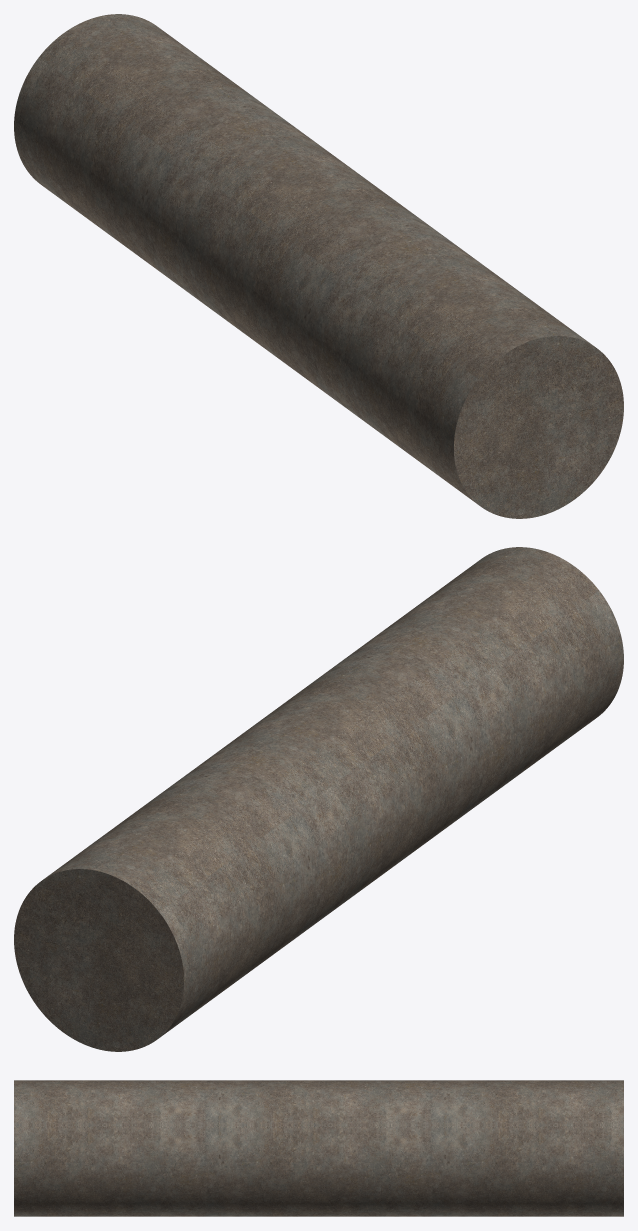
Rendered from post.glb.
The picture shows the model from 3 angles, top to bottom: view 1: azimuth 30°, elevation 25°; view 2: azimuth 150°, elevation 25°; view 3: azimuth 270°, elevation 25°; orthographic projection. The views are drawn at different scales.
Parts seen in each view (by area): view 1: object_1; view 2: object_1; view 3: object_1.
Boxes of the visible parts, x1,y1,x2,y2 form: object_1: [14, 14, 623, 518]; object_1: [14, 547, 623, 1051]; object_1: [14, 1080, 623, 1216].
Size of the model in its own units: 0.6044 by 0.6044 by 2.71.
Materials: 1 (1 with a texture image).
